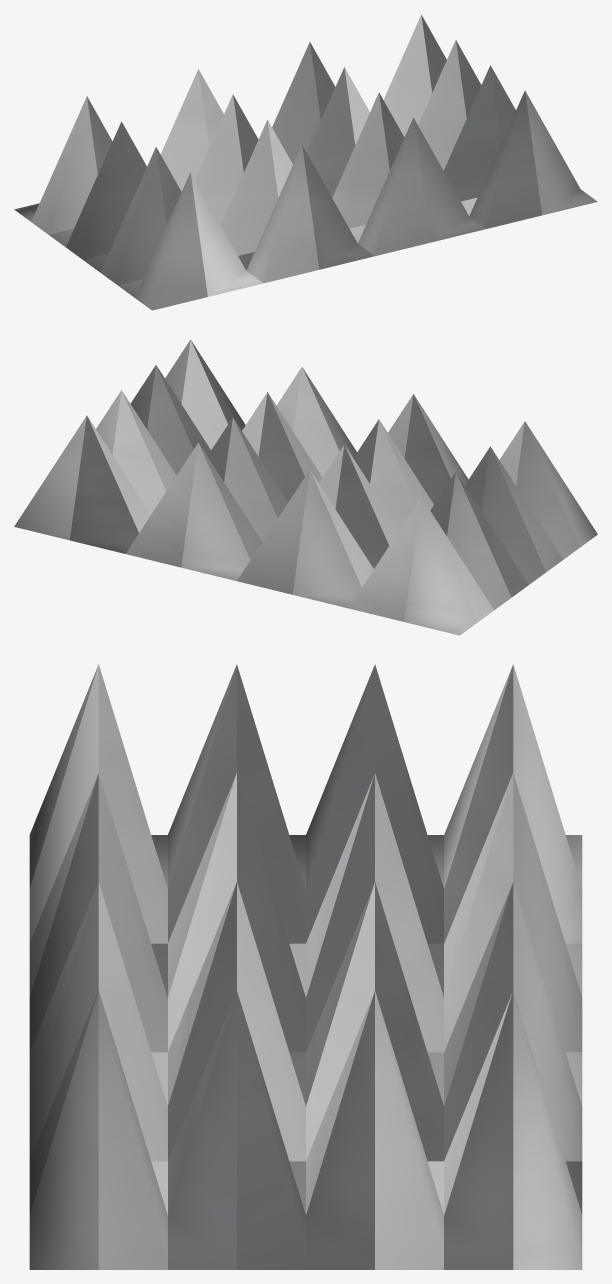
The model's file is punxes.fbx.
The picture shows the model from 3 angles, top to bottom: view 1: azimuth 30°, elevation 25°; view 2: azimuth 150°, elevation 25°; view 3: azimuth 270°, elevation 25°; orthographic projection. The views are drawn at different scales.
Visible parts, largest first — view 1: Plane; view 2: Plane; view 3: Plane.
Boxes of the visible parts, bbox=[...] form: Plane: bbox=[14, 14, 597, 310]; Plane: bbox=[14, 339, 597, 635]; Plane: bbox=[29, 664, 582, 1269].
Bounding box in the file's own units: 4.73 × 1.14 × 2.54.
Materials: 1 (1 with a texture image).
